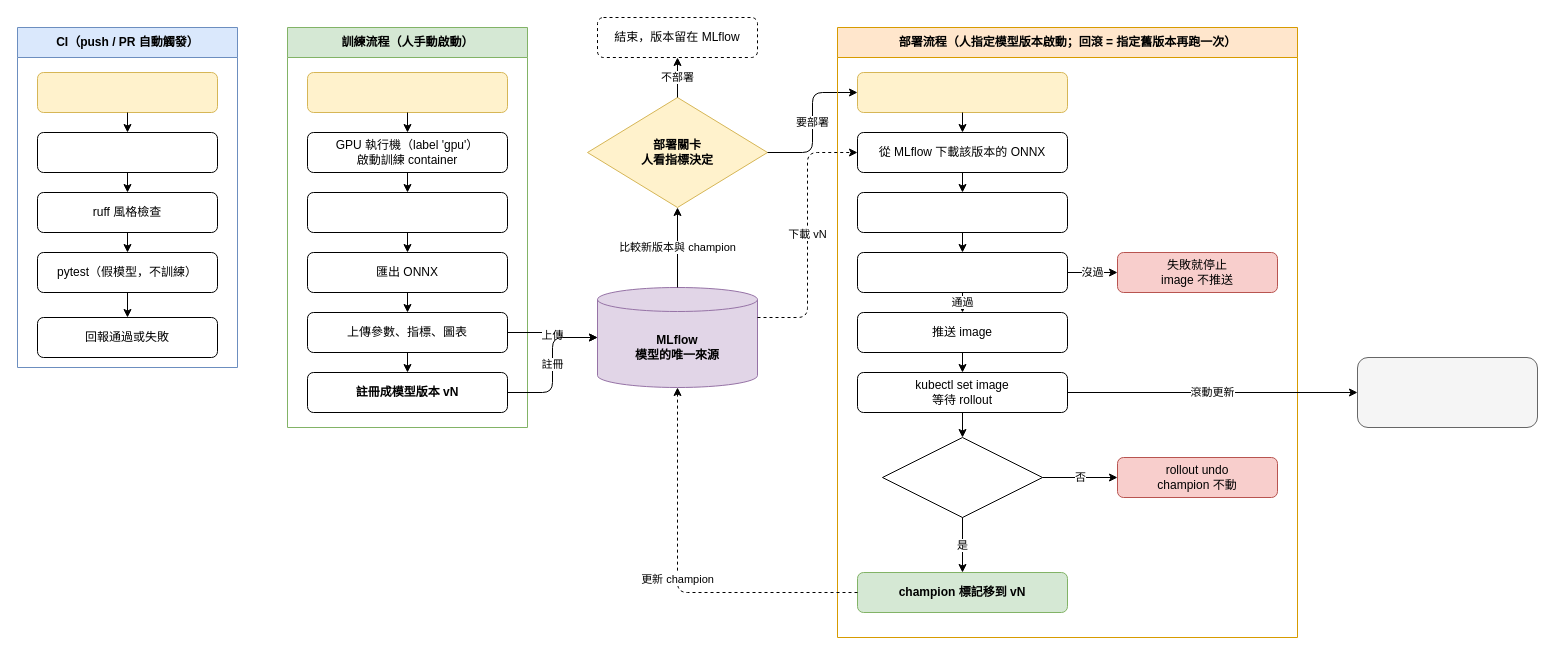
This 1555x655 diagram has some shape labels left out. The centre of each missing label's shape, as x and y in pixels:
"GitHub webhook 通知 Jenkins" belongs at [127,152].
"rollout 成功？" belongs at [962,477].
"人：Build with Parameters" belongs at [407,92].
"人：填 MODEL_VERSION 啟動" belongs at [962,92].
"冒煙測試：送一張圖確認有回應" belongs at [962,272].
"建置偵測服務 image（內含模型）" belongs at [962,212].
"正式環境（K8s） 偵測服務 ×2 Pod /healthz /detect" belongs at [1447,392].
"訓練 YOLO 並驗證" belongs at [407,212].
"開發者 push 或開 PR" belongs at [127,92].
